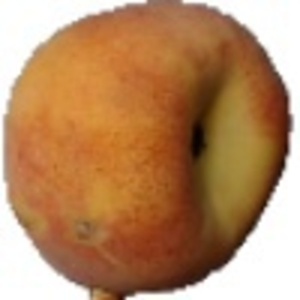pêssego: (1, 1, 294, 300)
